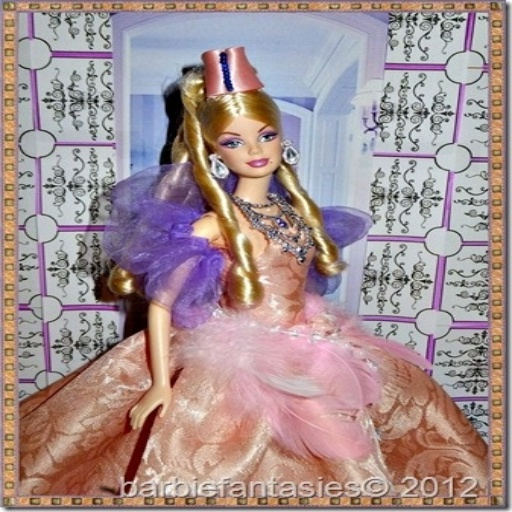hand: (126, 213, 218, 432)
